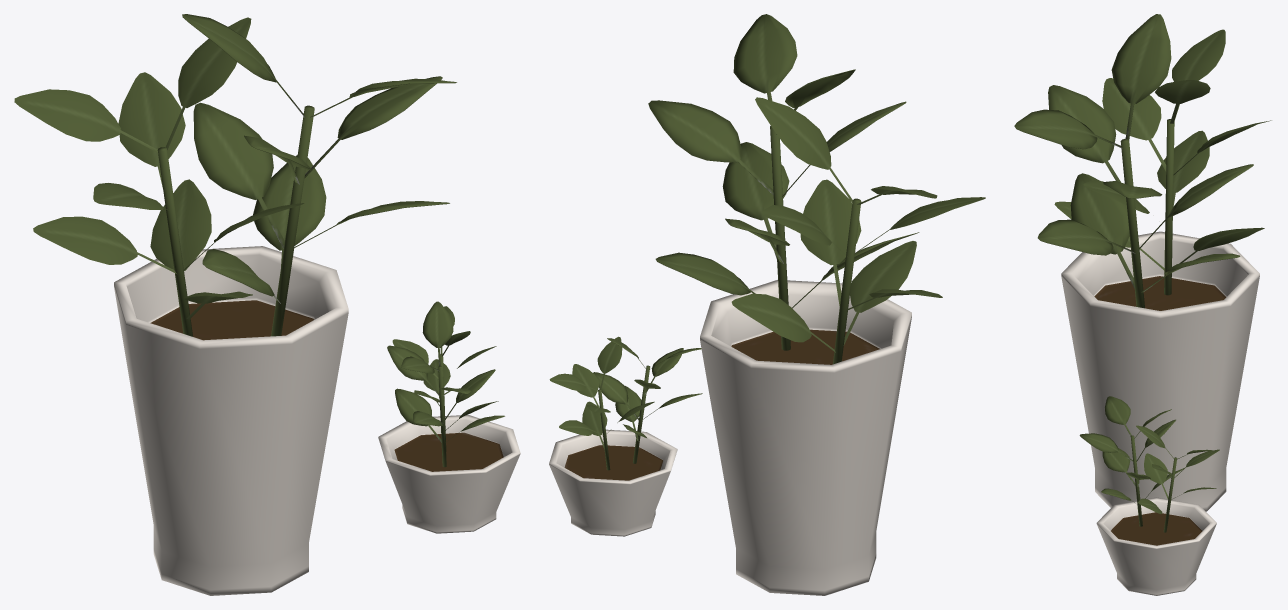
The model's file is plant.fbx.
3 views of the same model, side by side, from view 1: azimuth 30°, elevation 25°; view 2: azimuth 150°, elevation 25°; view 3: azimuth 270°, elevation 25° (orthographic). The views are drawn at different scales.
Visible parts, largest first — view 1: plant; view 2: plant; view 3: plant.
Part boxes in pixels (x1=…): plant: x1=14, y1=14, x2=520, y2=595; plant: x1=549, y1=14, x2=985, y2=595; plant: x1=1014, y1=14, x2=1271, y2=595.
Size of the model in its own units: 112 by 131 by 67.18.
